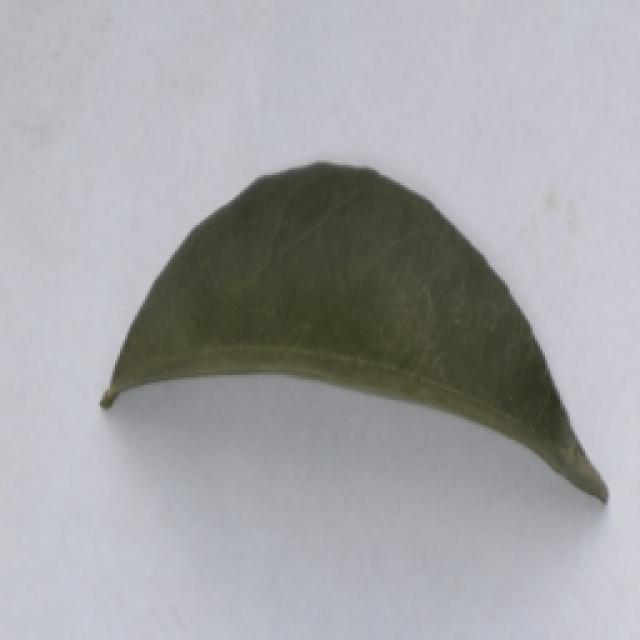healthy: (88, 153, 616, 516)
